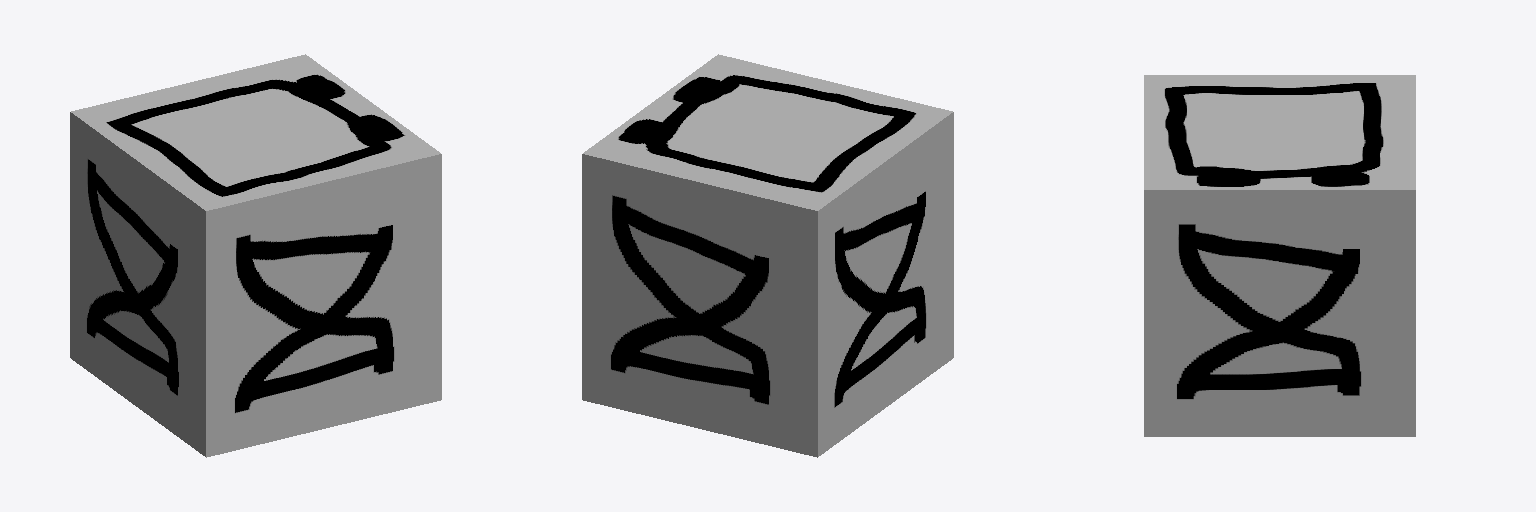
3 renders of one model, left to right at view 1: azimuth 30°, elevation 25°; view 2: azimuth 150°, elevation 25°; view 3: azimuth 270°, elevation 25°, orthographic.
Size of the model in its own units: 2 by 2 by 2.
Materials: 1 (1 with a texture image).